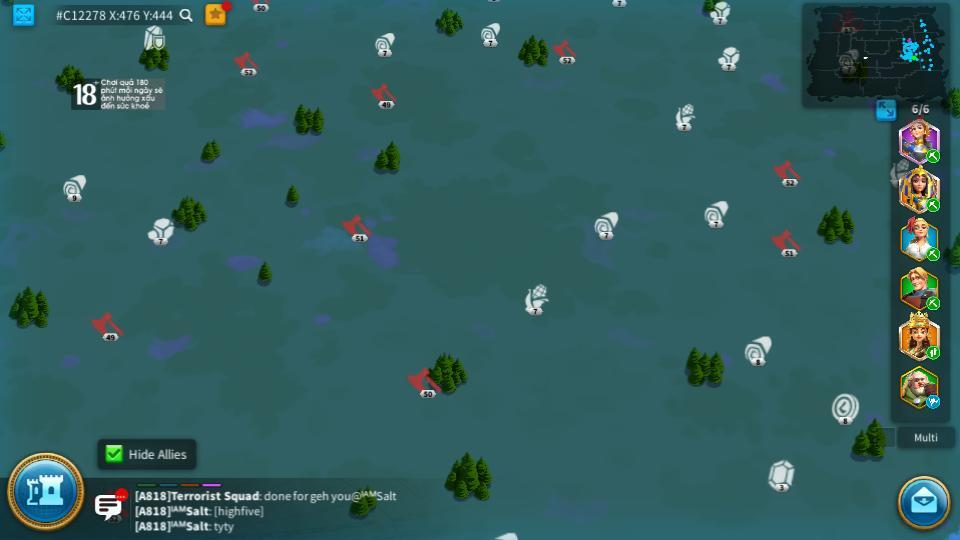gem-z-out: (767, 459, 796, 490), (609, 0, 627, 6)
march_farming: (925, 197, 941, 212), (926, 248, 941, 260)
march_idle: (925, 396, 942, 408)
march_marching: (925, 347, 941, 359), (925, 150, 941, 162), (925, 297, 942, 308)
